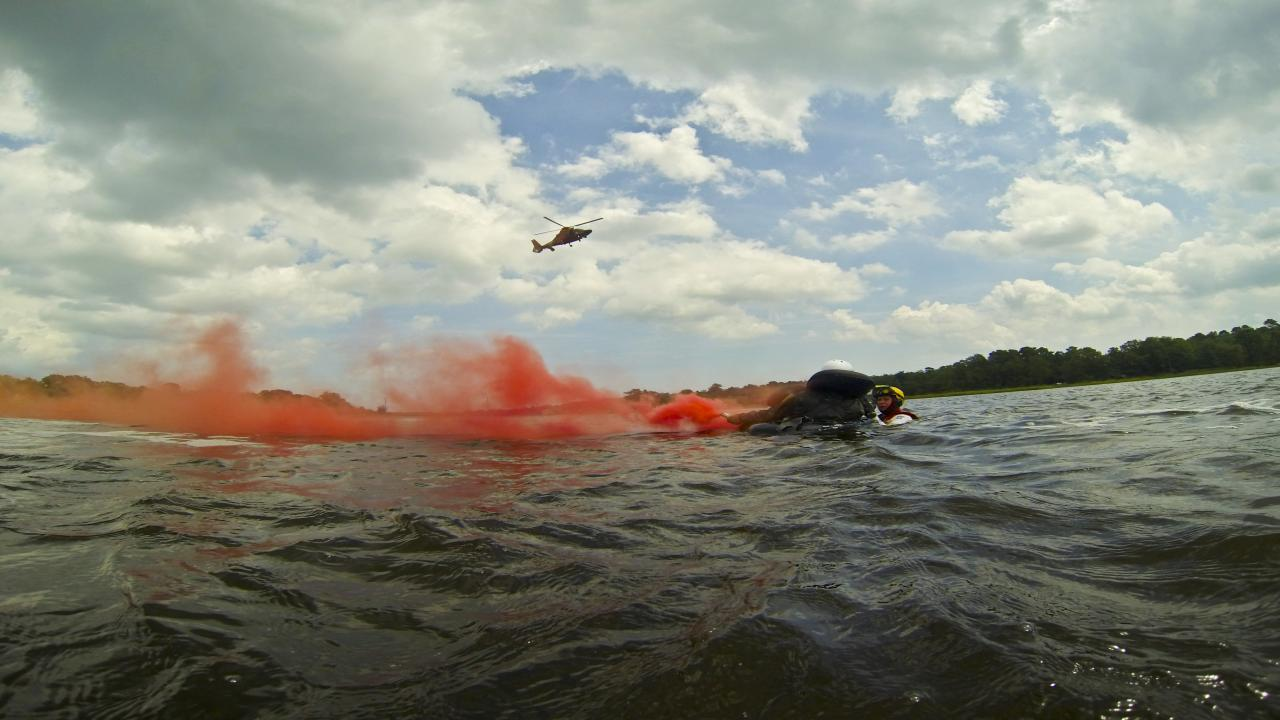Helicopter: (510, 200, 623, 272)
